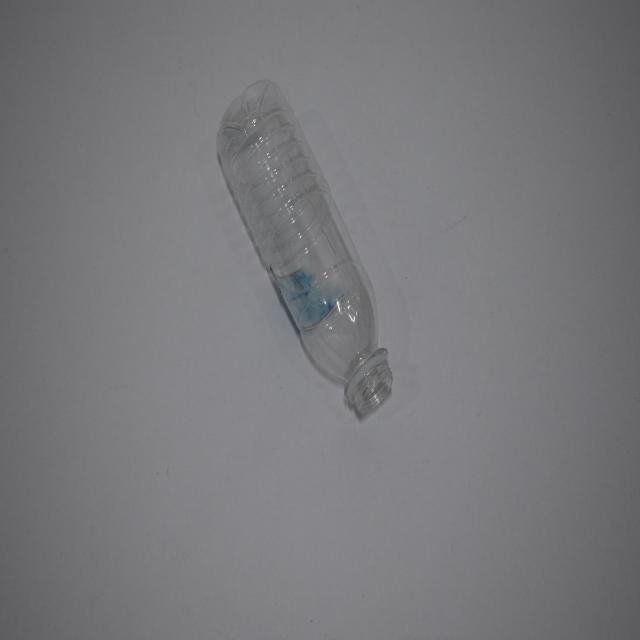bottle: (212, 68, 416, 434)
